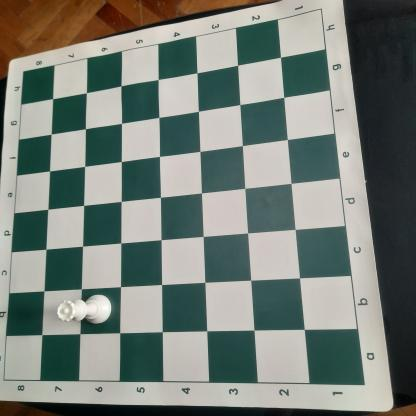white-queen: (55, 293, 113, 325)
